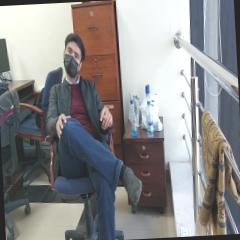not-gloved: (55, 112, 72, 138), (100, 106, 114, 129)
